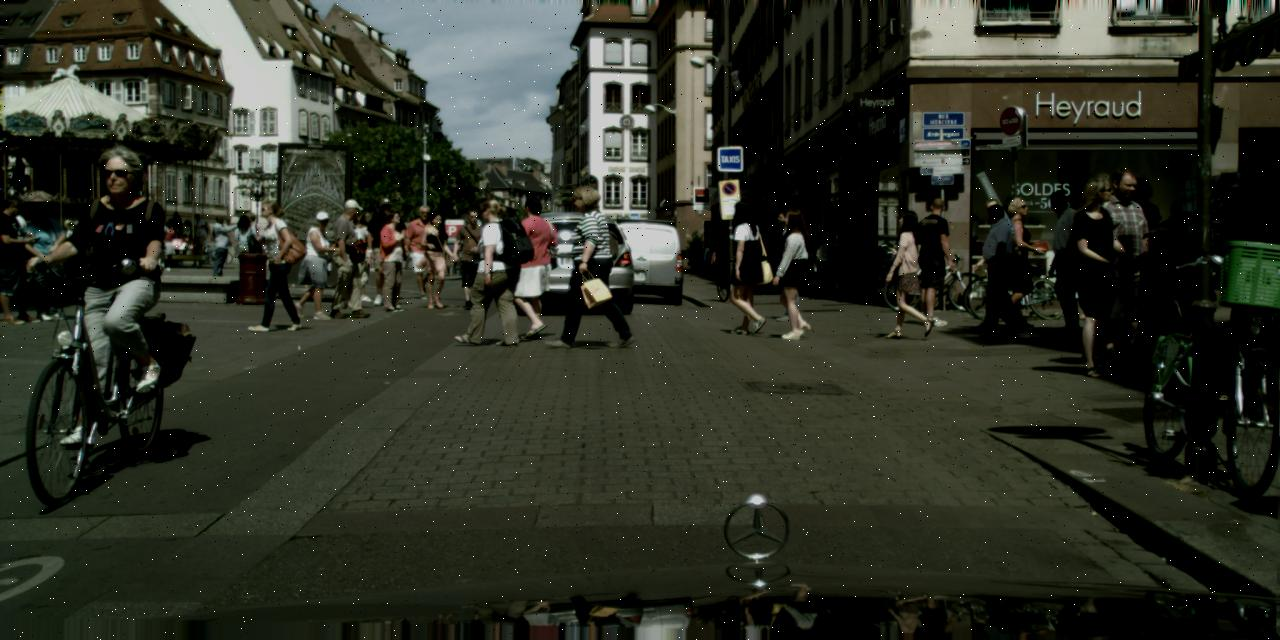ped: (61, 143, 175, 423), (1055, 172, 1138, 376), (1085, 167, 1166, 364), (556, 184, 622, 350), (1220, 196, 1279, 370), (459, 198, 519, 346), (1127, 226, 1187, 370), (507, 195, 565, 338), (1114, 177, 1172, 317), (1041, 190, 1098, 331), (719, 198, 773, 334), (992, 195, 1046, 328), (768, 208, 822, 339), (246, 200, 300, 330), (966, 199, 1020, 329), (974, 203, 1026, 333), (909, 197, 961, 326), (885, 209, 937, 337), (0, 196, 47, 324), (23, 202, 72, 322), (326, 198, 374, 318), (1152, 201, 1198, 312), (764, 209, 809, 321), (363, 197, 408, 306), (293, 209, 337, 316), (375, 210, 416, 311), (451, 210, 492, 309), (338, 210, 378, 304), (405, 204, 444, 300), (417, 212, 456, 308), (230, 213, 256, 276), (206, 213, 230, 276), (186, 214, 208, 267), (242, 214, 263, 266), (157, 220, 178, 272), (710, 237, 726, 279), (182, 219, 198, 255), (704, 245, 717, 278), (170, 211, 182, 240), (702, 244, 712, 272)
